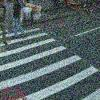crosswalks: (0, 25, 100, 100)
